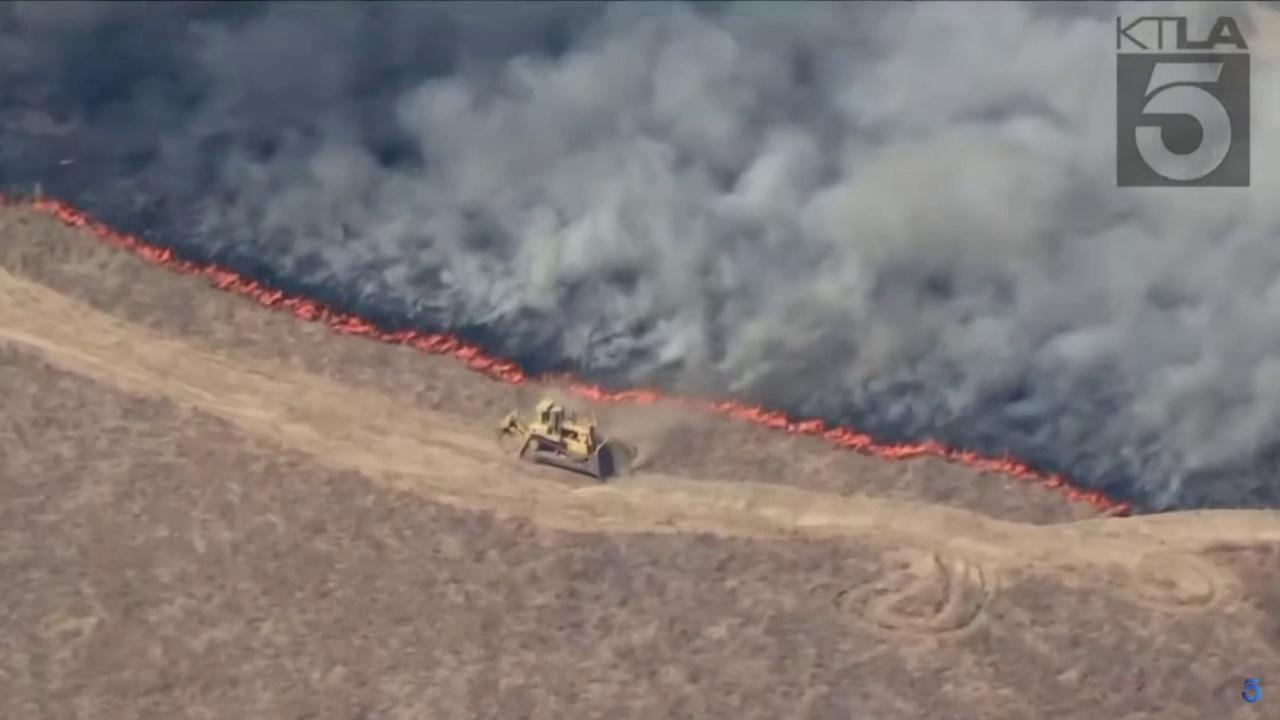fire: (28, 197, 525, 389), (566, 380, 1131, 517)
smoke: (0, 0, 1280, 506)
